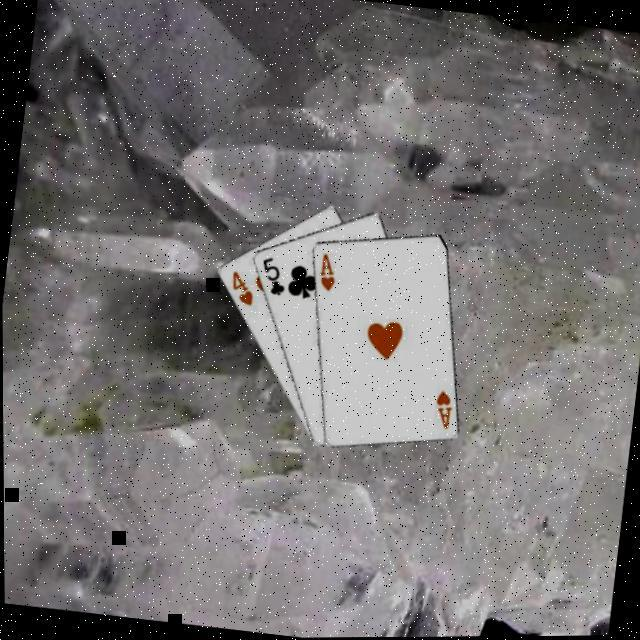4H: (225, 269, 259, 311)
5C: (256, 254, 291, 302)
AH: (430, 388, 457, 434), (314, 252, 342, 296)
